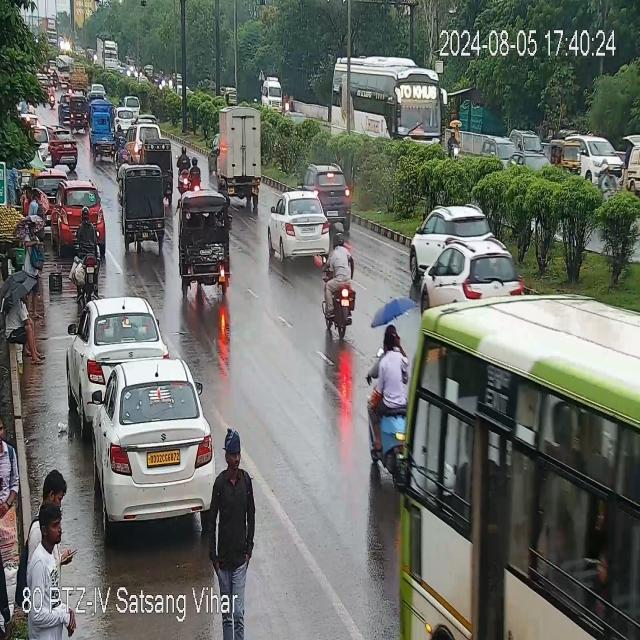2-wheelers: (367, 301, 415, 474), (318, 234, 360, 345), (73, 210, 102, 295), (16, 98, 45, 130), (190, 153, 201, 197), (178, 144, 189, 187), (118, 139, 130, 166), (450, 128, 459, 158), (116, 124, 124, 146)
auto: (175, 194, 237, 306), (120, 168, 165, 254), (550, 127, 583, 181), (148, 133, 174, 199), (88, 112, 116, 161), (70, 94, 87, 130)
bus: (410, 312, 640, 640), (336, 54, 458, 160)
car: (88, 366, 212, 528), (70, 295, 166, 399), (416, 238, 535, 306), (267, 191, 336, 261), (410, 200, 507, 244), (54, 174, 108, 252), (307, 163, 348, 224), (582, 132, 625, 182), (45, 124, 80, 175), (510, 130, 550, 162), (481, 134, 516, 162), (126, 122, 142, 158), (116, 104, 134, 130), (59, 91, 70, 120), (124, 96, 140, 114), (225, 91, 237, 106)
pedestrian: (214, 427, 262, 622), (26, 466, 70, 640), (0, 412, 20, 629), (9, 298, 44, 368), (27, 218, 40, 320), (33, 190, 46, 236), (20, 181, 33, 216)
truck: (208, 105, 266, 208)
